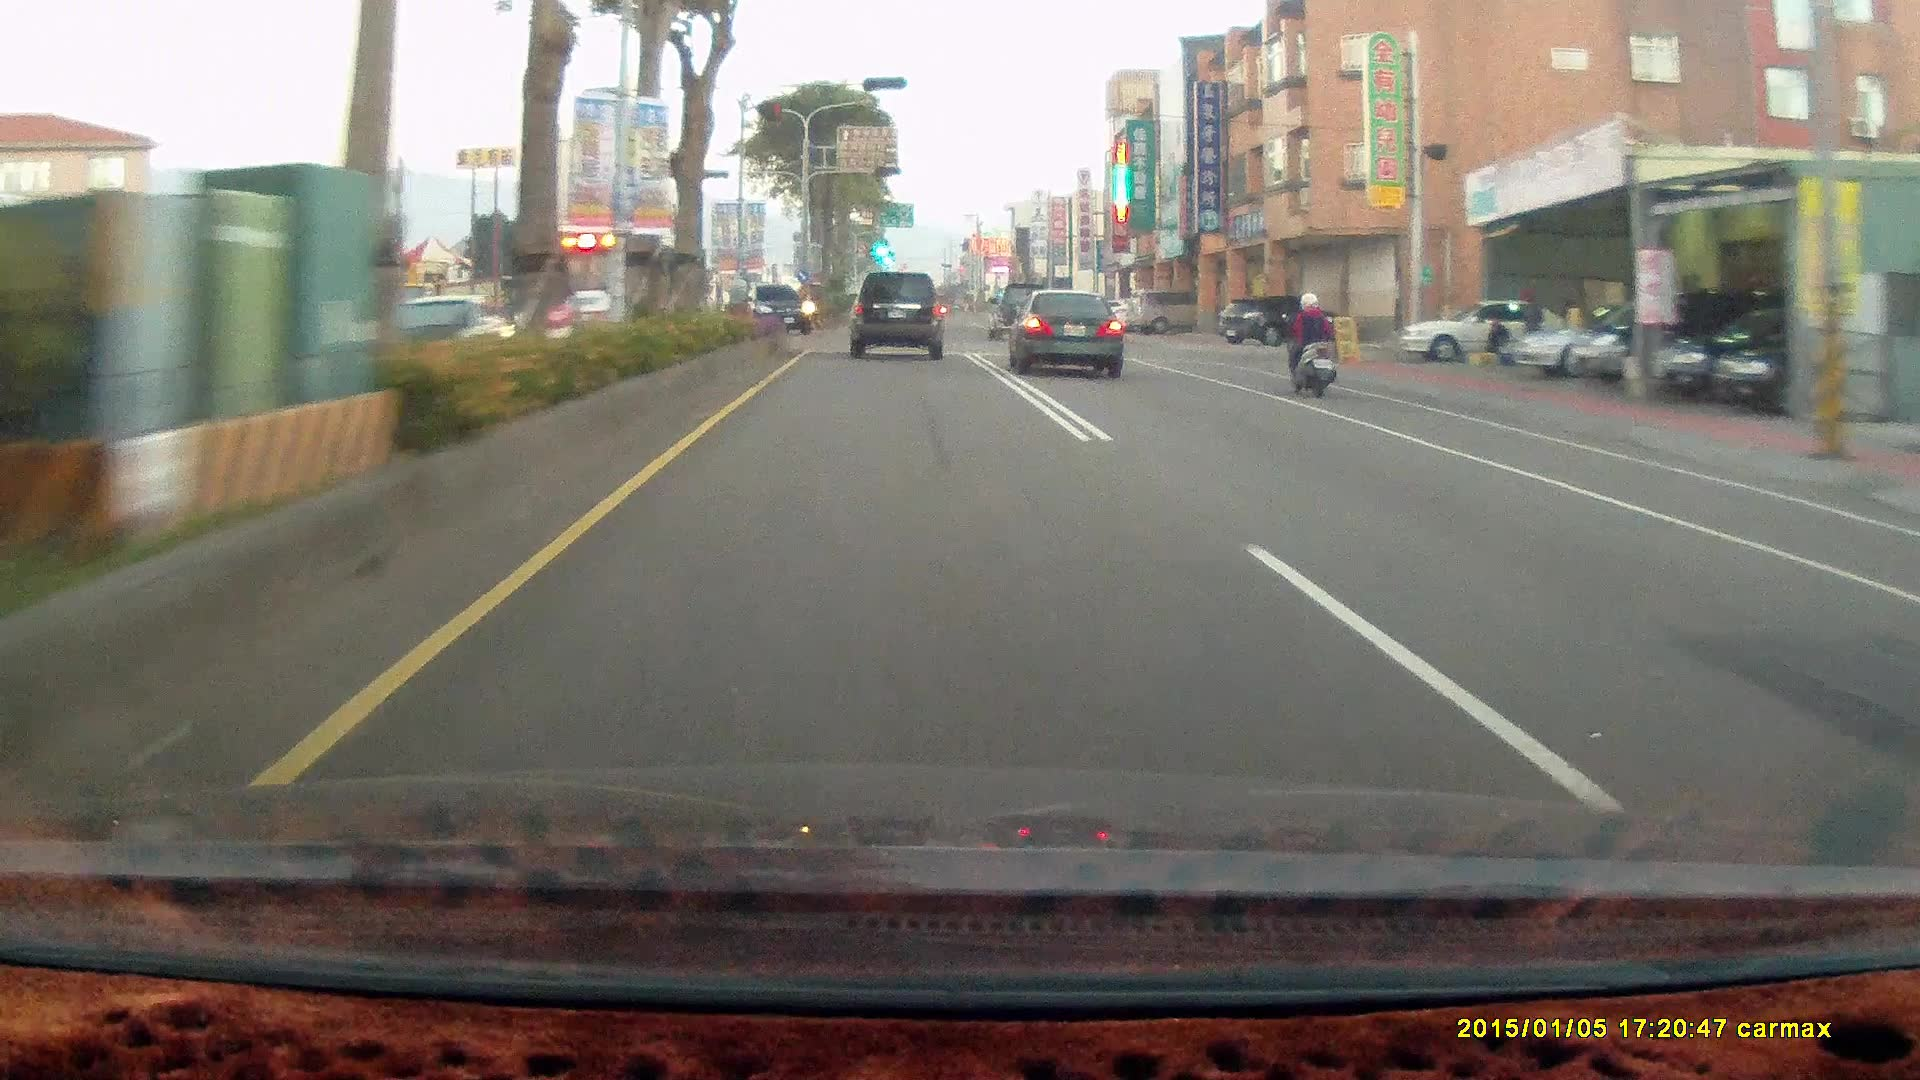pedestrian: (1518, 283, 1541, 362), (1483, 314, 1510, 365)
rider: (1275, 281, 1348, 405), (1279, 288, 1337, 395)
vehicle: (1719, 306, 1920, 417), (1652, 310, 1874, 406), (542, 227, 705, 341), (1571, 291, 1756, 385), (1516, 301, 1719, 380), (1388, 297, 1580, 372), (367, 293, 518, 380), (1396, 297, 1573, 364), (1016, 296, 1134, 392), (1003, 286, 1123, 376), (847, 278, 948, 368), (847, 272, 943, 358), (1219, 296, 1347, 351), (1215, 297, 1336, 348), (1122, 287, 1212, 336), (742, 286, 816, 338), (986, 284, 1051, 341), (742, 284, 815, 334)
